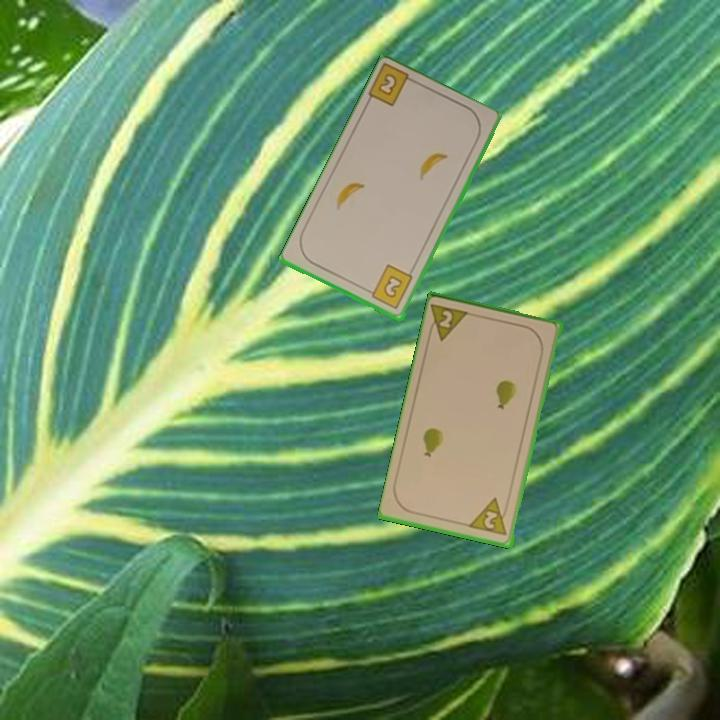2b: (365, 62, 421, 110), (363, 262, 416, 312)
2p: (425, 301, 474, 344), (467, 495, 511, 539)
